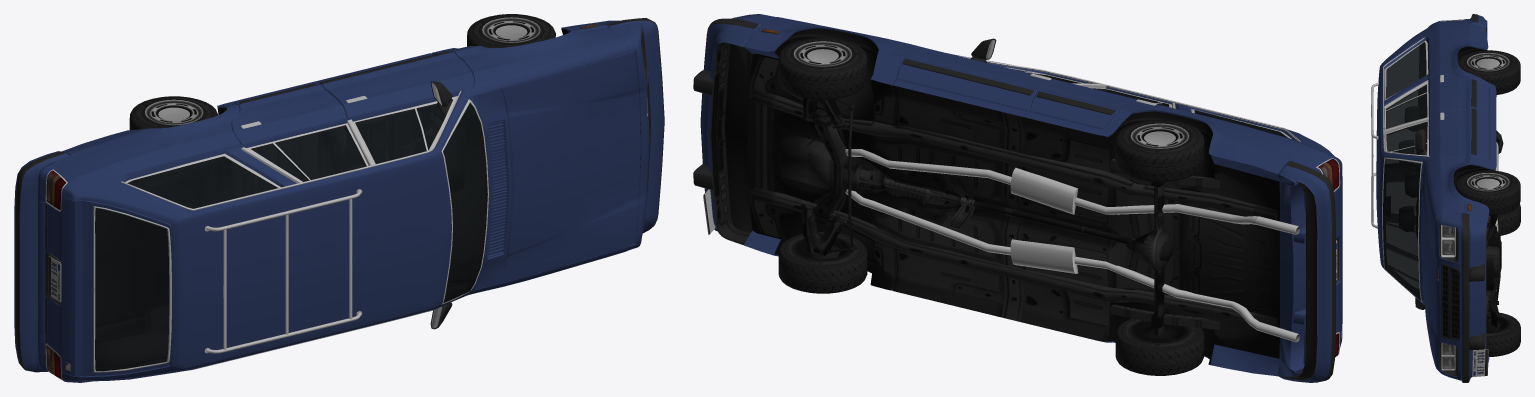
Rendered from model_paint2.gltf.
The picture shows the model from 3 angles, left to right: view 1: azimuth 30°, elevation 25°; view 2: azimuth 150°, elevation 25°; view 3: azimuth 270°, elevation 25°; orthographic projection. The views are drawn at different scales.
Parts seen in each view (by area): view 1: fairheaven_sw84; view 2: fairheaven_sw84; view 3: fairheaven_sw84.
Boxes of the visible parts, x1,y1,x2,y2 form: fairheaven_sw84: [14, 14, 664, 382]; fairheaven_sw84: [693, 14, 1342, 382]; fairheaven_sw84: [1371, 14, 1520, 382].
Bounding box in the file's own units: 5.03 × 1.86 × 1.4.
Materials: 8 (7 with a texture image).
